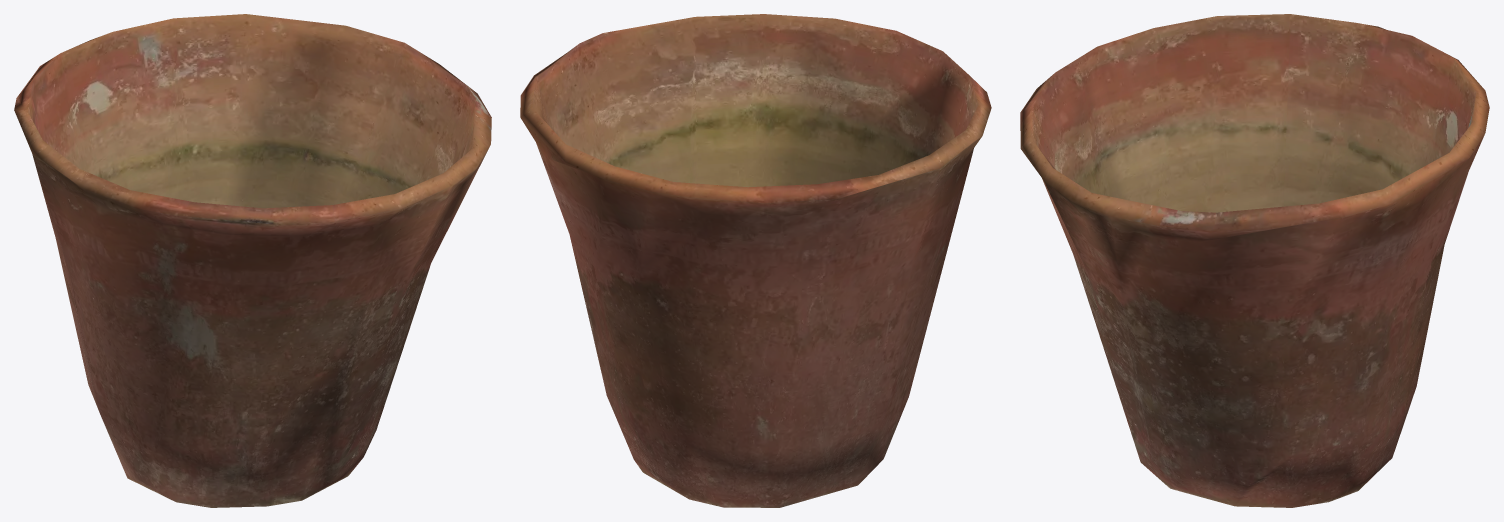
The model's file is planter_pot_clay.glb.
3 views of the same model, side by side, from view 1: azimuth 30°, elevation 25°; view 2: azimuth 150°, elevation 25°; view 3: azimuth 270°, elevation 25° (orthographic).
Visible parts, largest first — view 1: planter_pot_clay; view 2: planter_pot_clay; view 3: planter_pot_clay.
Part boxes in pixels (x1,y1,x2,y2): planter_pot_clay: (14, 14, 491, 507); planter_pot_clay: (520, 14, 991, 507); planter_pot_clay: (1020, 14, 1489, 507).
Bounding box in the file's own units: 0.2637 × 0.2218 × 0.2616.
1 material, 1 textured.
